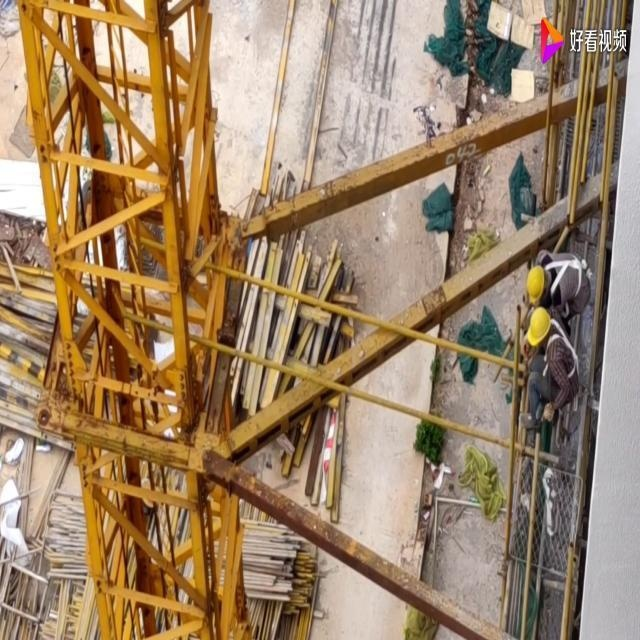Arnes_seguridad: (542, 313, 579, 381), (541, 251, 586, 302)
